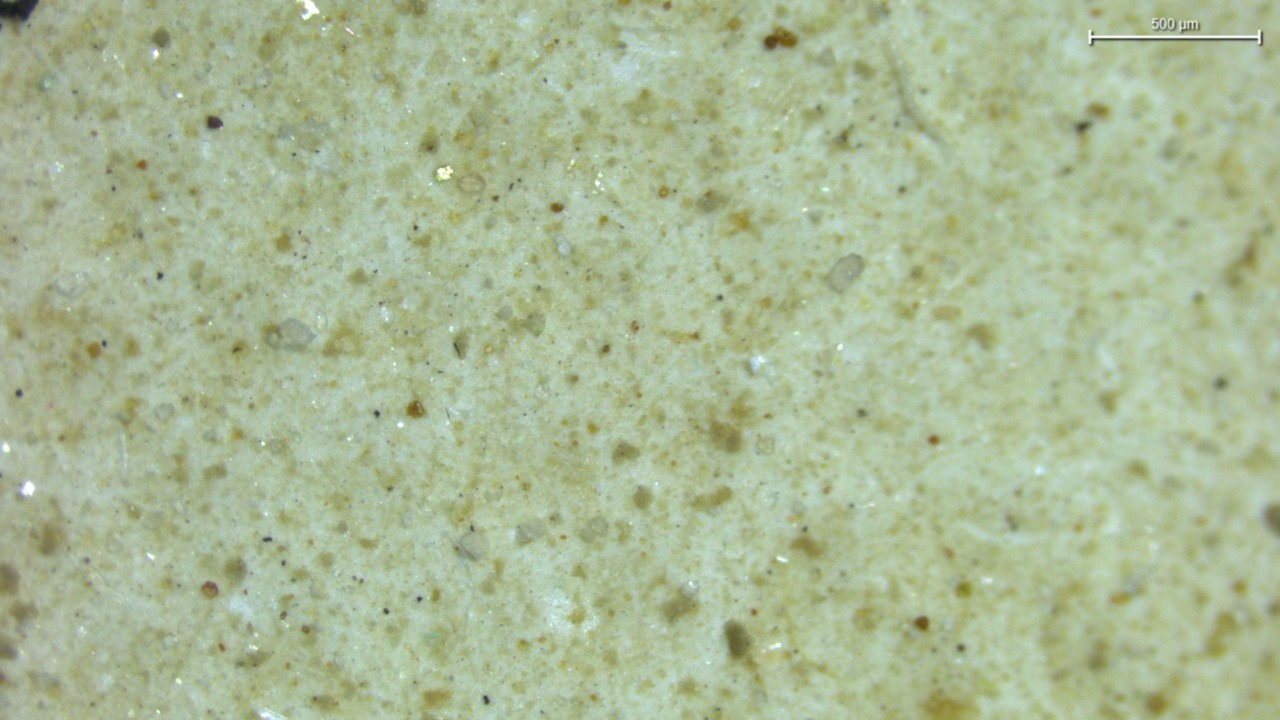microplastic_fragment: (262, 318, 316, 350), (828, 253, 865, 293)
